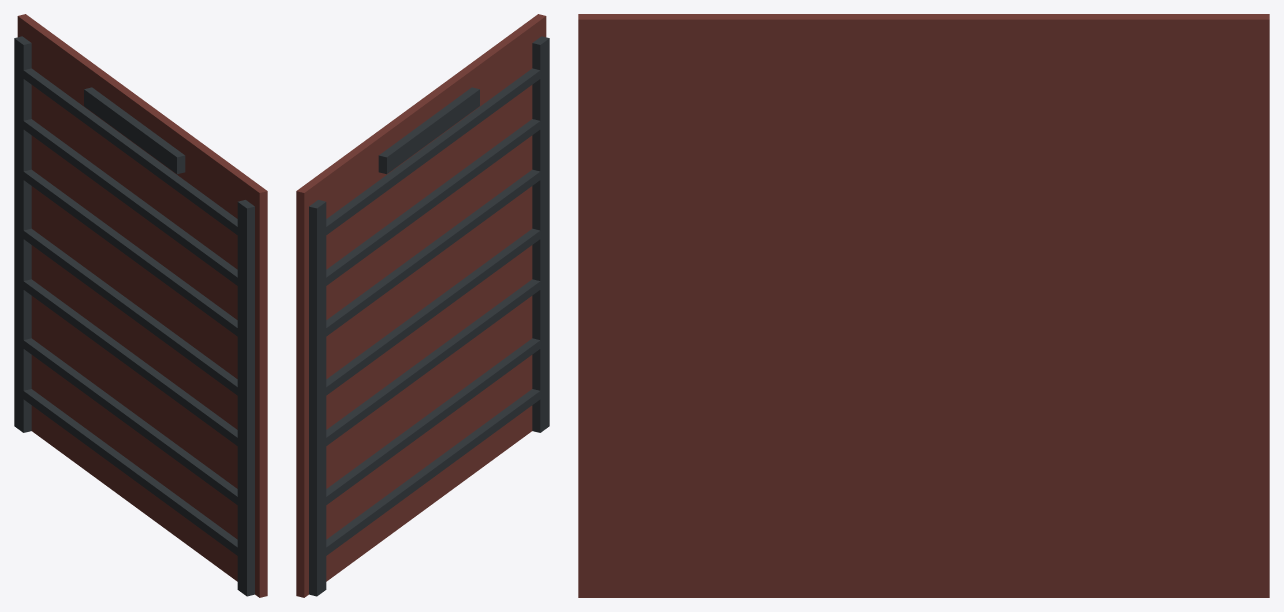
Rendered from horse_box_ramp.glb.
3 renders of one model, left to right at view 1: azimuth 30°, elevation 25°; view 2: azimuth 150°, elevation 25°; view 3: azimuth 270°, elevation 25°, orthographic. The views are drawn at different scales.
Visible parts, largest first — view 1: body:compound; view 2: body:compound; view 3: body:compound.
Part boxes in pixels (left/top/right/bottom): body:compound: left=14, top=14, right=267, bottom=597; body:compound: left=296, top=14, right=549, bottom=597; body:compound: left=578, top=14, right=1269, bottom=597.
Size of the model in its own units: 0.0625 by 1.5 by 1.62.
